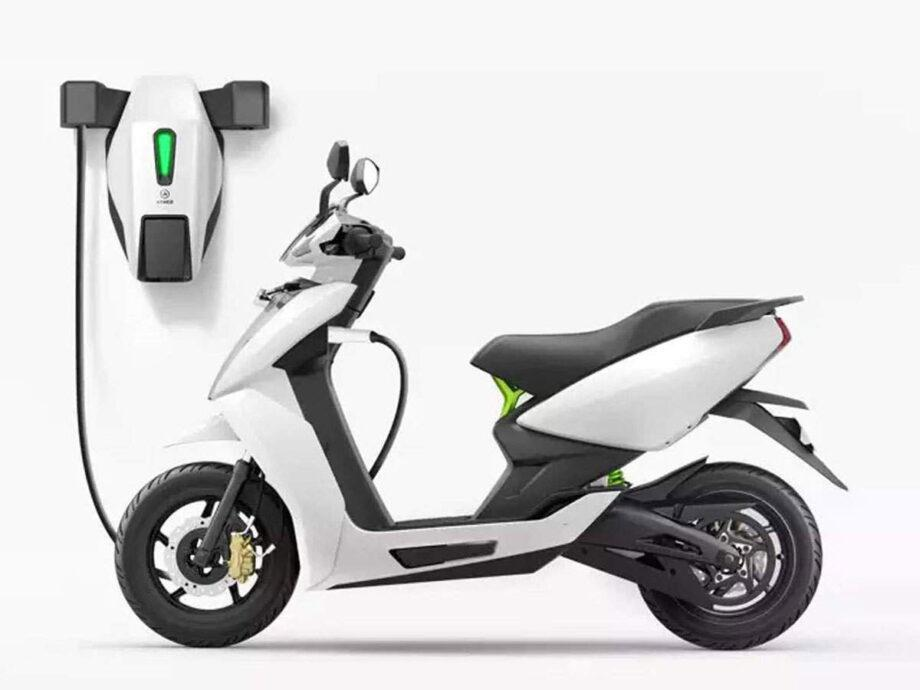motorbike: (114, 137, 849, 649)
